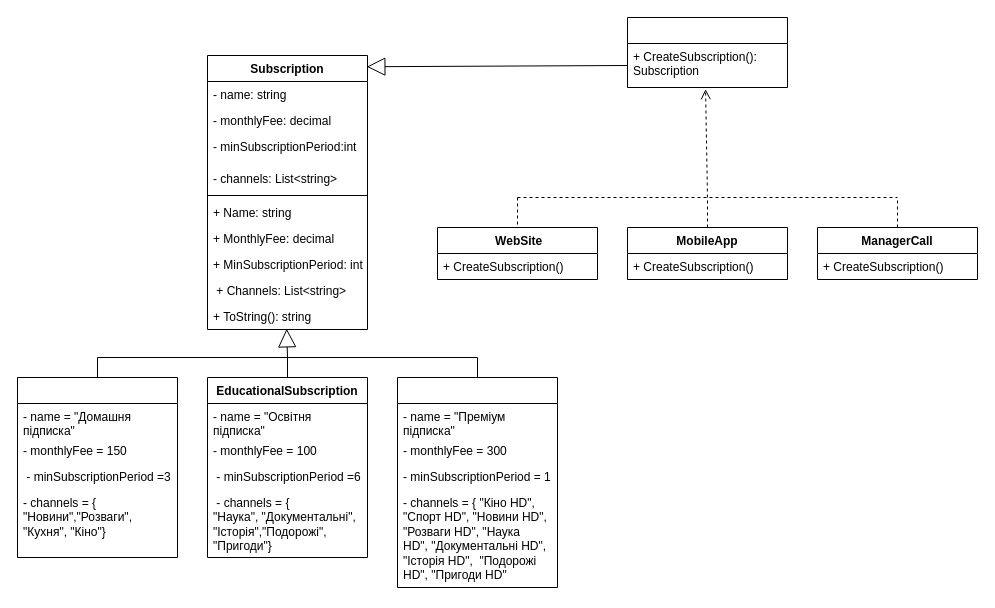
The diagram is 995 pixels wide and 608 high, and some of its shapes have lost their labels. Each missing label, with the box of its shape:
DomesticSubscription: (16, 376, 178, 558)
PremiumSubscription: (396, 376, 558, 588)
SubscriptionFabric: (626, 16, 788, 88)
